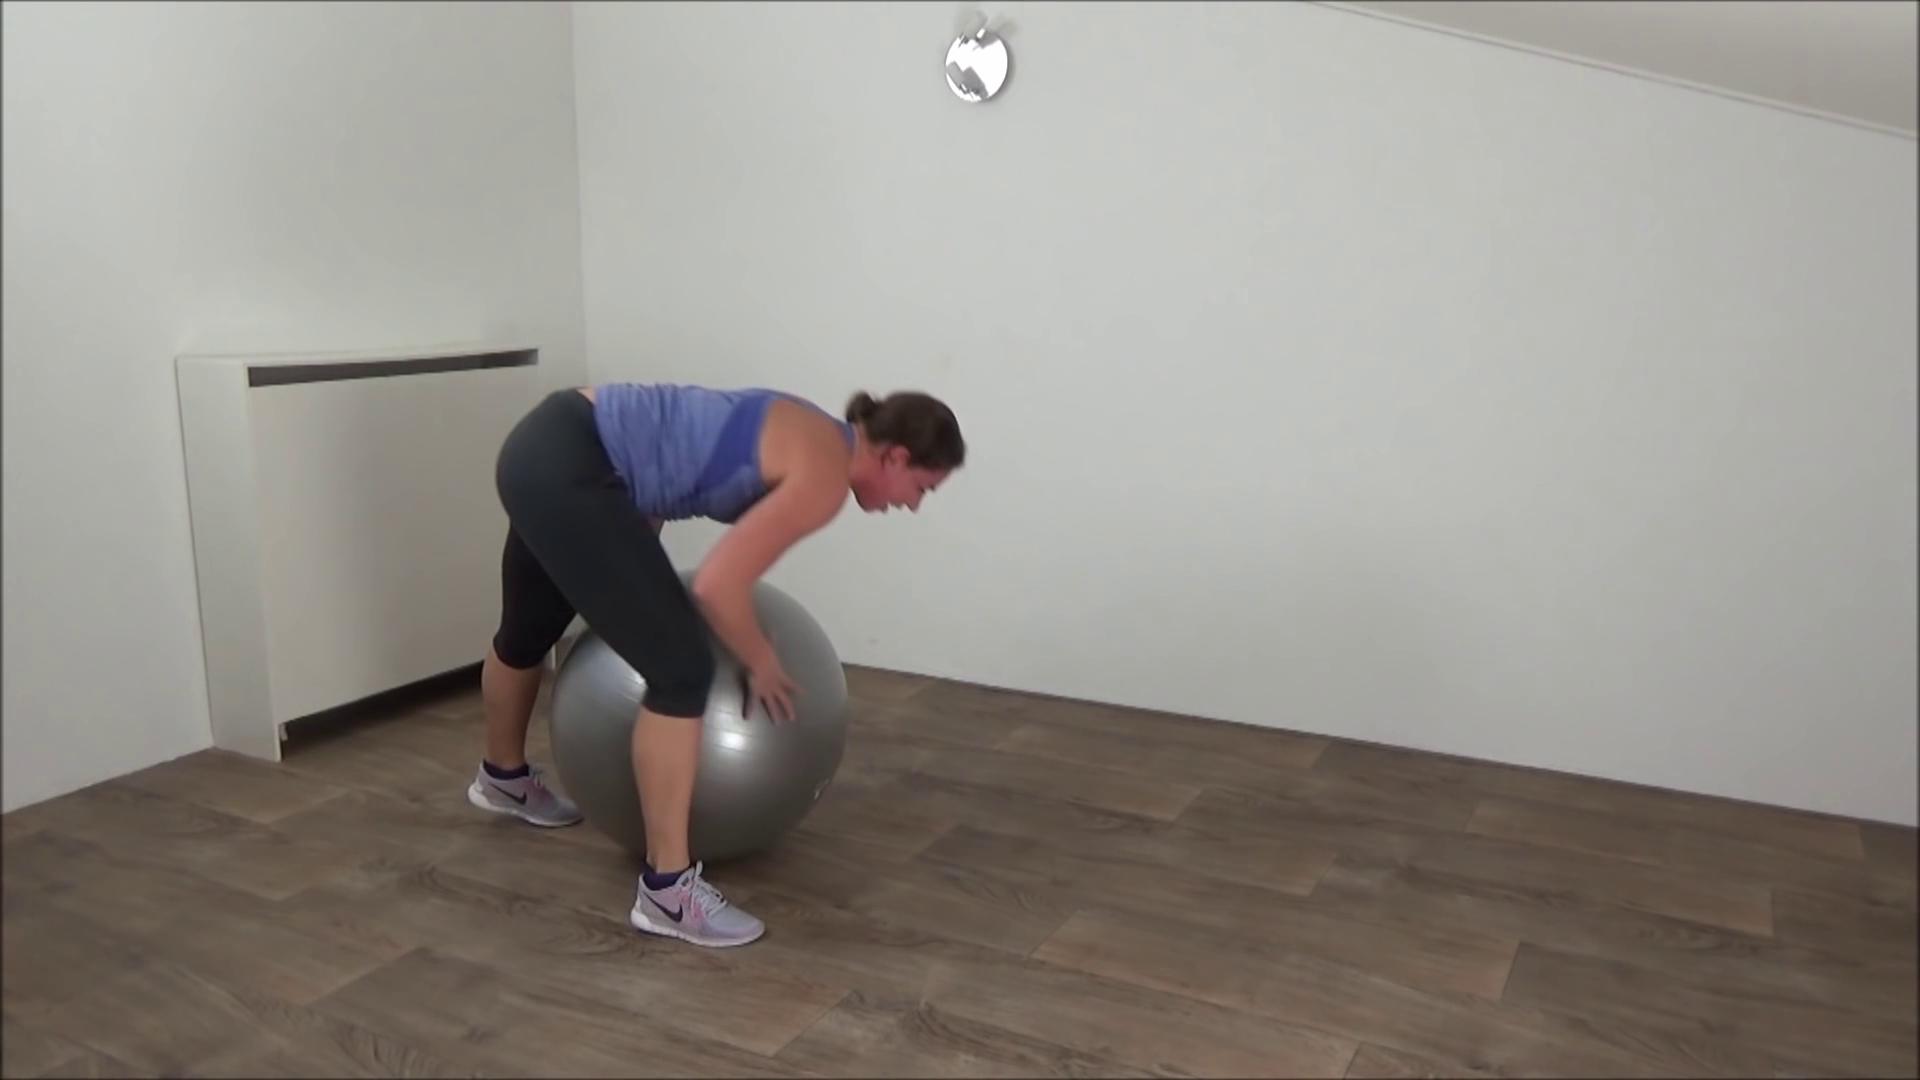yogaball: (533, 562, 860, 870)
